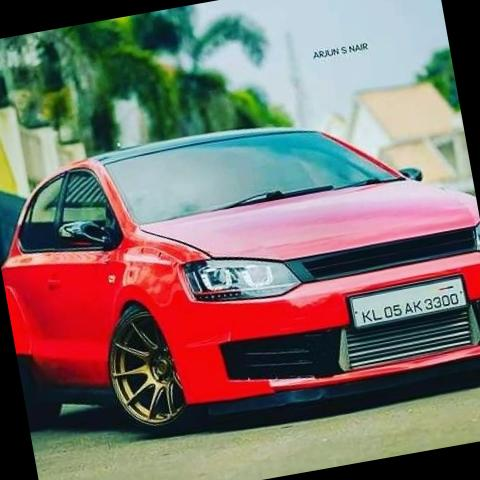plate: (344, 263, 480, 348)
